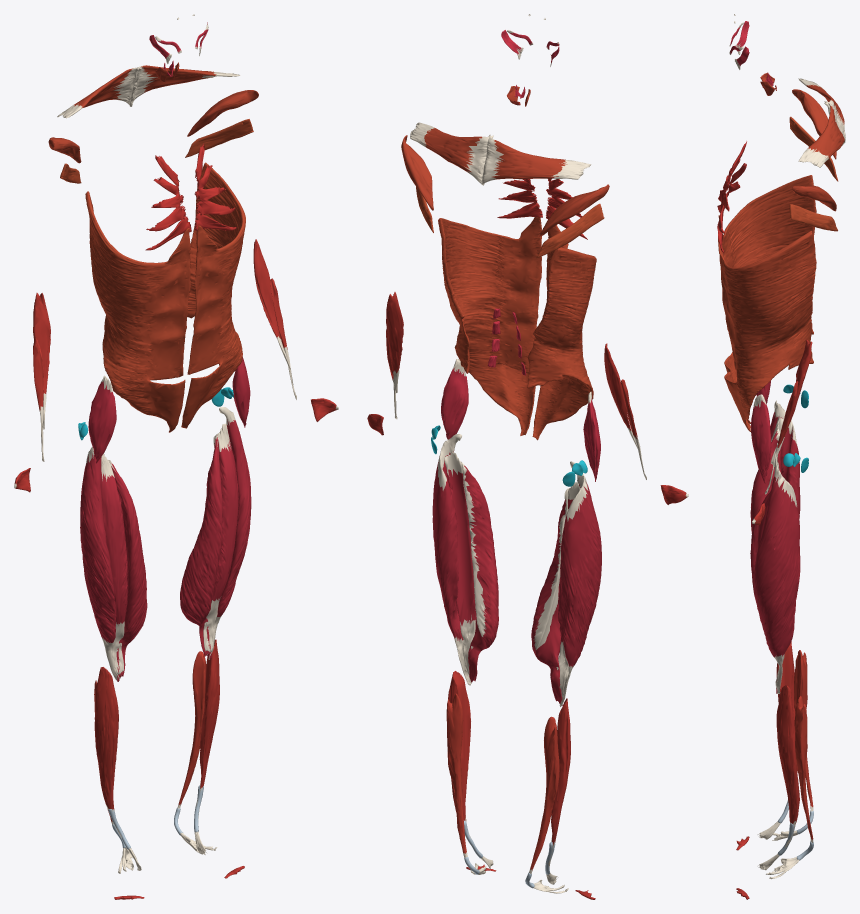
File: muscular-4.glb
3 renders of one model, left to right at view 1: azimuth 30°, elevation 25°; view 2: azimuth 150°, elevation 25°; view 3: azimuth 270°, elevation 25°, orthographic. The views are drawn at different scales.
Parts seen in each view (by area): view 1: Transversus abdominis muscle.r, Transversus abdominis muscle.l, Vastus lateralis muscle.r, Vastus medialis muscle.l, Vastus intermedius muscle.r, Vastus medialis muscle.r, Vastus intermedius muscle.l, Tibialis anterior muscle.r, Vastus lateralis muscle.l, Tibialis anterior muscle.l, Tensor fasciae latae.r, Tibialis posterior muscle.l (+10 smaller); view 2: Transversus abdominis muscle.l, Transversus abdominis muscle.r, Vastus lateralis muscle.r, Vastus medialis muscle.l, Vastus lateralis muscle.l, Vastus medialis muscle.r, Vastus intermedius muscle.l, Transverse part of trapezius muscle.r, Transverse part of trapezius muscle.l, Tibialis posterior muscle.l, Tibialis posterior muscle.r, Tibialis anterior muscle.r (+10 smaller); view 3: Transversus abdominis muscle.l, Vastus lateralis muscle.l, Transversus abdominis muscle.r, Tibialis anterior muscle.l, Tibialis posterior muscle.l, Tensor fasciae latae.l, Transverse part of trapezius muscle.l, Vastus lateralis muscle.r, Tibialis posterior muscle.r, Vastus medialis muscle.r, Tibialis anterior muscle.r, Teres minor muscle.r (+9 smaller).
Boxes of the visible parts, x1,y1,x2,y2 form: Transversus abdominis muscle.r: (85,191,190,432); Transversus abdominis muscle.l: (181,162,245,428); Vastus lateralis muscle.r: (80,447,119,681); Vastus medialis muscle.l: (180,433,222,659); Vastus intermedius muscle.r: (101,454,127,674); Vastus medialis muscle.r: (108,460,147,681); Vastus intermedius muscle.l: (203,423,238,652); Tibialis anterior muscle.r: (94,667,141,870); Vastus lateralis muscle.l: (208,407,251,659); Tibialis anterior muscle.l: (194,639,219,854); Tensor fasciae latae.r: (88,375,116,463); Tibialis posterior muscle.l: (177,651,217,852); Transversus abdominis muscle.l: (438,217,541,435); Transversus abdominis muscle.r: (527,225,596,440); Vastus lateralis muscle.r: (558,461,601,706); Vastus medialis muscle.l: (461,462,498,682); Vastus lateralis muscle.l: (432,434,471,685); Vastus medialis muscle.r: (531,488,569,705); Vastus intermedius muscle.l: (444,452,476,674); Transverse part of trapezius muscle.r: (481,134,591,185); Transverse part of trapezius muscle.l: (410,122,493,185); Tibialis posterior muscle.l: (446,693,486,874); Tibialis posterior muscle.r: (529,716,568,893); Tibialis anterior muscle.r: (546,698,570,884); Transversus abdominis muscle.l: (718,231,816,431); Vastus lateralis muscle.l: (753,457,800,693); Transversus abdominis muscle.r: (718,175,816,423); Tibialis anterior muscle.l: (757,685,799,870); Tibialis posterior muscle.l: (766,696,813,879); Tensor fasciae latae.l: (751,394,771,483); Transverse part of trapezius muscle.l: (798,101,845,167); Vastus lateralis muscle.r: (770,400,800,518); Tibialis posterior muscle.r: (772,650,813,840); Vastus medialis muscle.r: (750,428,780,533); Tibialis anterior muscle.r: (757,641,797,839); Teres minor muscle.r: (792,89,836,159).
Bounding box in the file's own units: 0.6197 × 1.59 × 0.2173.
